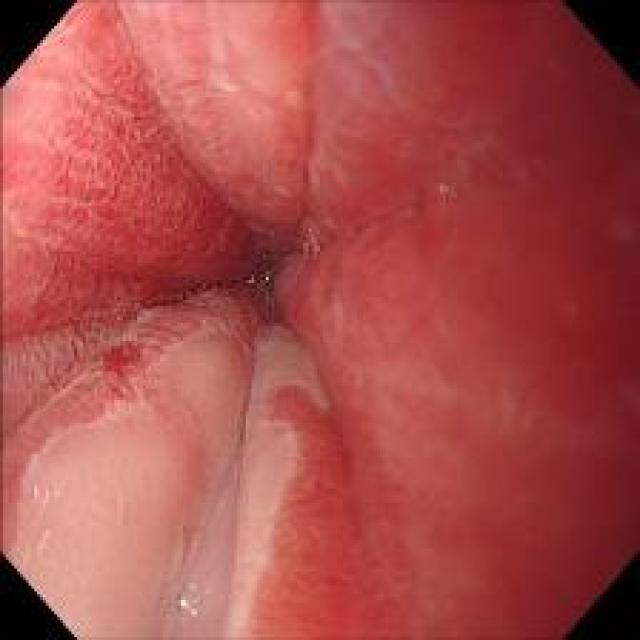blur: (112, 0, 638, 245), (406, 48, 628, 609)
bubbles: (239, 250, 285, 310), (169, 578, 201, 621)
specularity: (176, 596, 190, 610), (245, 275, 255, 286), (262, 269, 269, 281)
